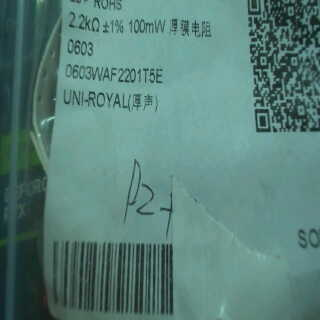2.2kR: (64, 8, 105, 34)
